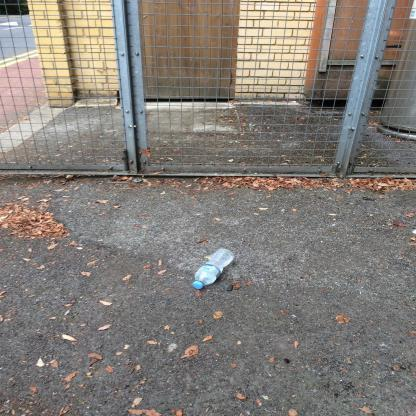plastic: (192, 247, 236, 290)
